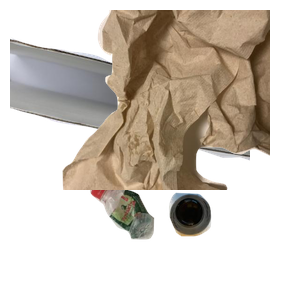cardboard: (10, 35, 250, 188)
glass: (166, 190, 300, 300)
plastic: (87, 178, 234, 300)
trash: (60, 10, 300, 190)
